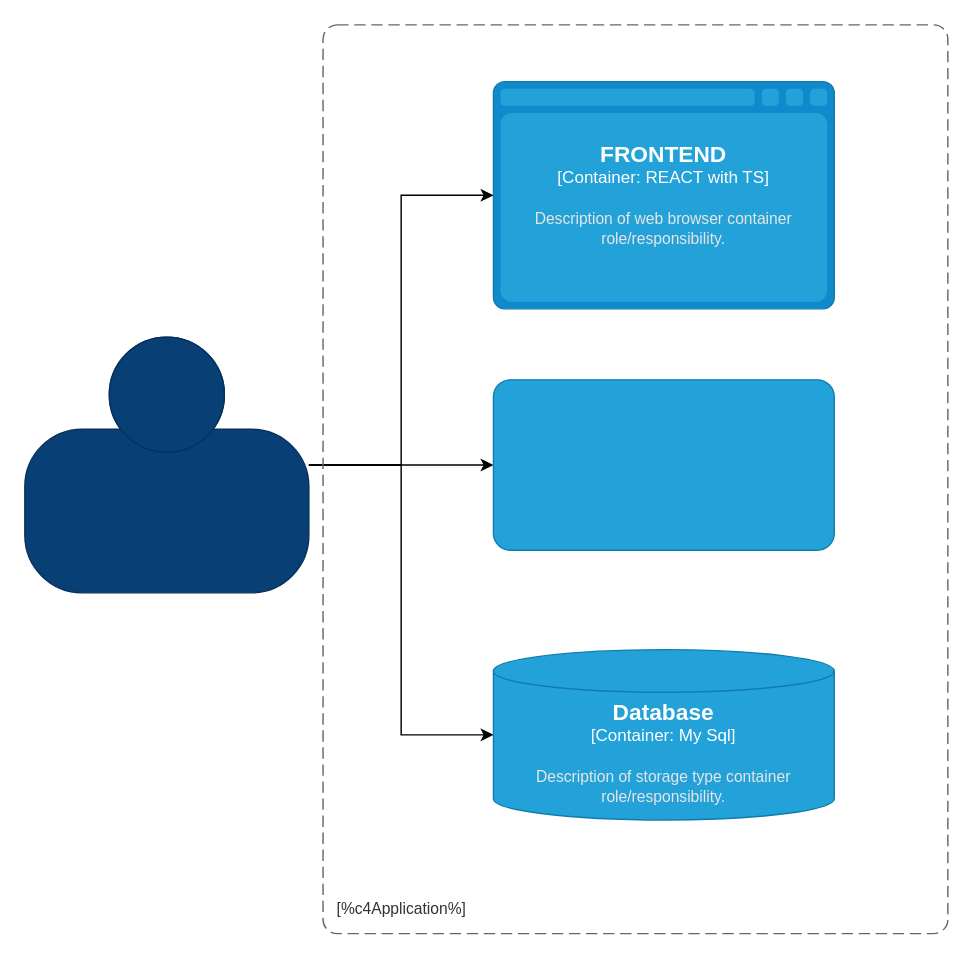
Image size: 973x959. Some labels were removed from this diagram. Here are the shapes that lost their labels. From the top down, the box of each, then its label:
(23, 336, 309, 593): User [Person] Description of person.
(492, 378, 834, 550): Backend [Container: Node JS ] API RESTful
